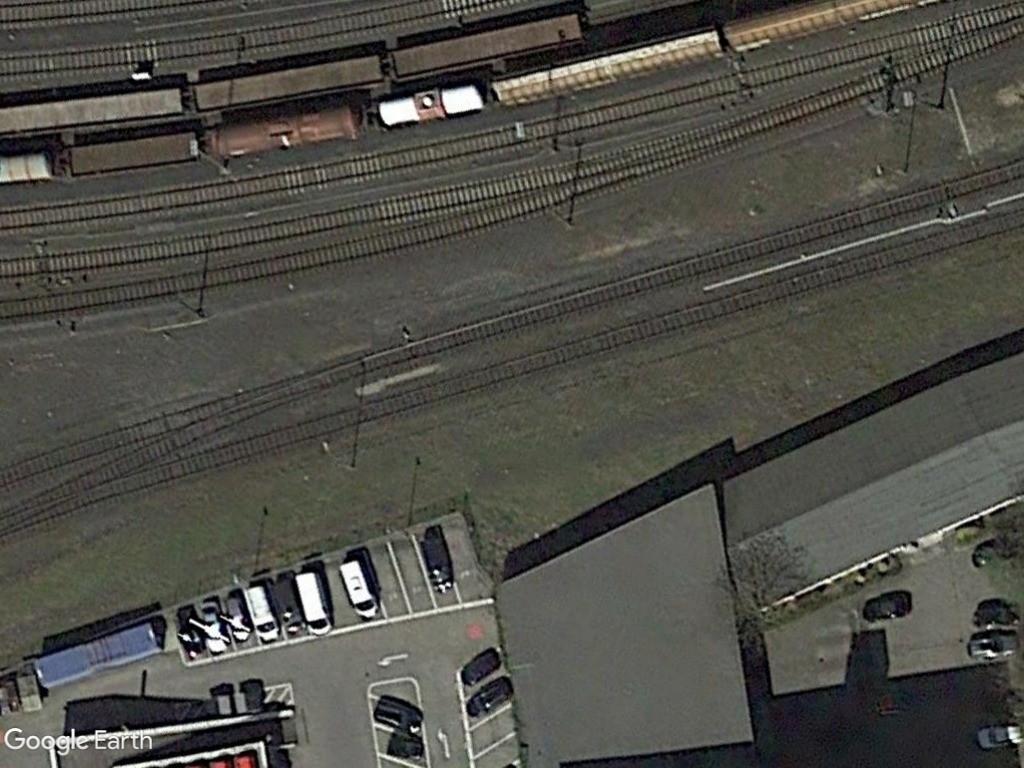longvehicle: (27, 619, 166, 691)
van: (292, 568, 337, 638), (239, 583, 285, 646), (335, 557, 380, 621)
